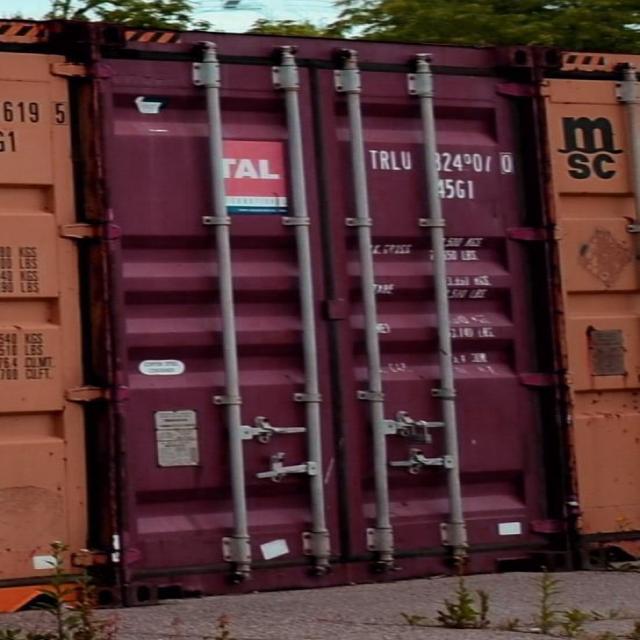ISO: (440, 176, 478, 198)
container_number: (374, 149, 516, 176)
